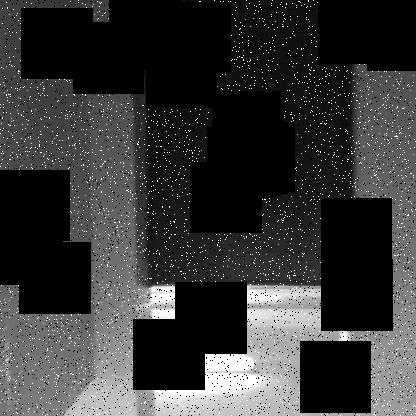Porte: (136, 0, 355, 290)
